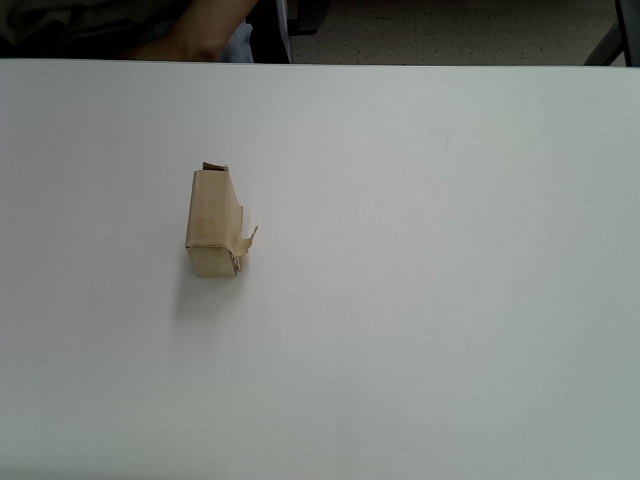defect: (184, 161, 259, 280)
